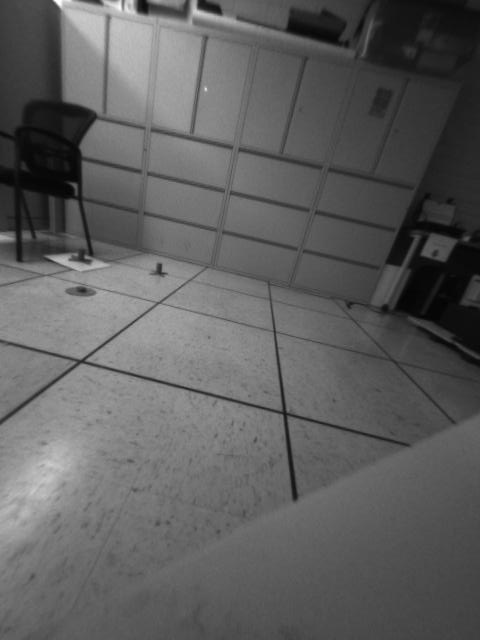X: (66, 245, 93, 264), (146, 262, 169, 277)
